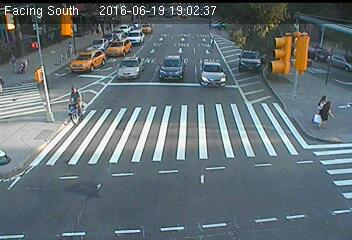neg: (56, 80, 88, 123), (175, 150, 202, 186), (136, 111, 161, 145), (136, 60, 154, 85), (251, 46, 267, 68), (232, 158, 248, 179), (290, 160, 306, 181), (73, 54, 87, 73)
pos: (1, 45, 21, 74), (316, 100, 336, 126), (313, 93, 330, 117), (14, 51, 30, 73)
